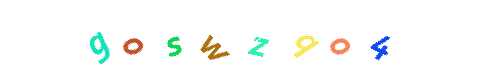0: (134, 0, 214, 80), (256, 0, 336, 80)
4: (340, 0, 420, 80)
G: (121, 0, 201, 80)
Q: (255, 0, 335, 80)
S: (140, 0, 220, 80)
W: (163, 0, 243, 80)
Z: (200, 0, 280, 80)
